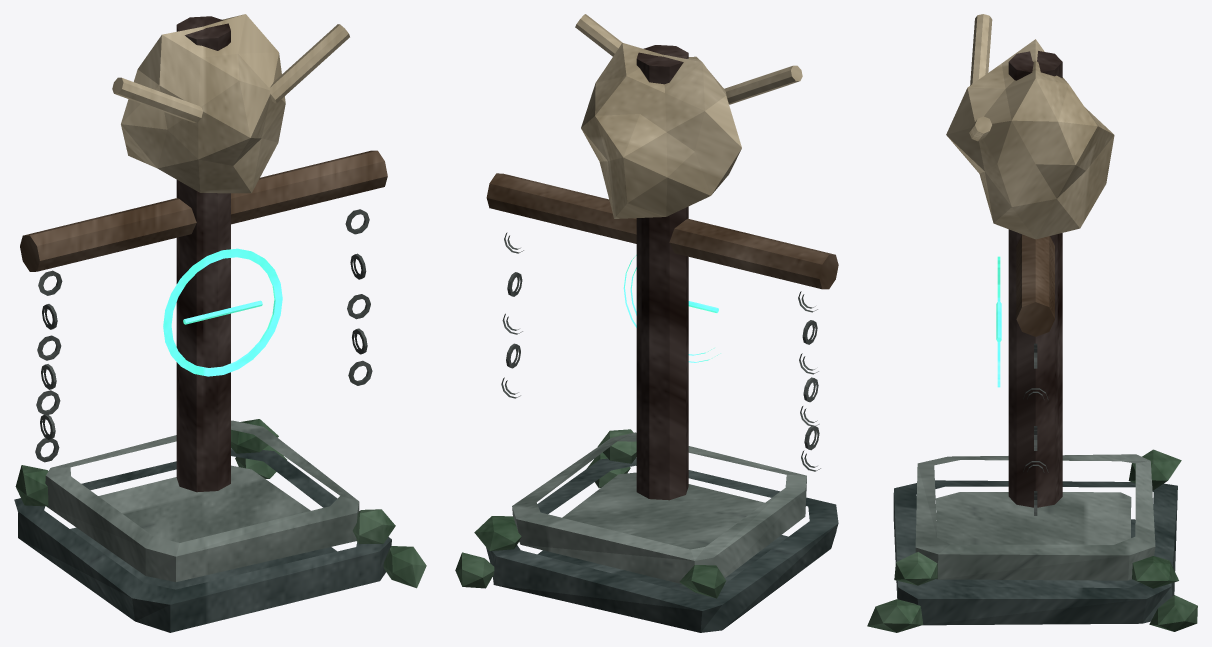
The model's file is 0520_effigy_20.glb.
The picture shows the model from 3 angles, left to right: view 1: azimuth 30°, elevation 25°; view 2: azimuth 150°, elevation 25°; view 3: azimuth 270°, elevation 25°; orthographic projection. The views are drawn at different scales.
Visible parts, largest first — view 1: stone, bone, stone_dark, wood_dark, wood, moss, glow, iron; view 2: bone, stone, stone_dark, wood_dark, wood, moss, iron; view 3: bone, stone, stone_dark, wood_dark, moss, wood, glow, iron.
Part boxes in pixels (<box>): stone: <box>45,420,359,581</box>; bone: <box>112,14,349,193</box>; stone_dark: <box>14,448,391,632</box>; wood_dark: <box>176,16,230,492</box>; wood: <box>20,150,387,271</box>; moss: <box>15,419,426,588</box>; glow: <box>163,248,282,376</box>; iron: <box>35,209,372,462</box>; bone: <box>575,14,802,218</box>; stone: <box>512,432,806,584</box>; stone_dark: <box>486,457,838,632</box>; wood_dark: <box>636,45,688,500</box>; wood: <box>486,173,838,289</box>; moss: <box>455,429,726,598</box>; iron: <box>501,232,820,471</box>; bone: <box>946,14,1114,239</box>; stone: <box>915,454,1155,580</box>; stone_dark: <box>893,480,1177,625</box>; wood_dark: <box>1008,51,1062,507</box>; moss: <box>867,449,1197,632</box>; wood: <box>1016,234,1054,336</box>; glow: <box>996,256,1001,387</box>; iron: <box>1023,343,1048,515</box>.
Bounding box in the file's own units: 2 × 2.94 × 1.72.
Materials: 8 (8 with a texture image).
